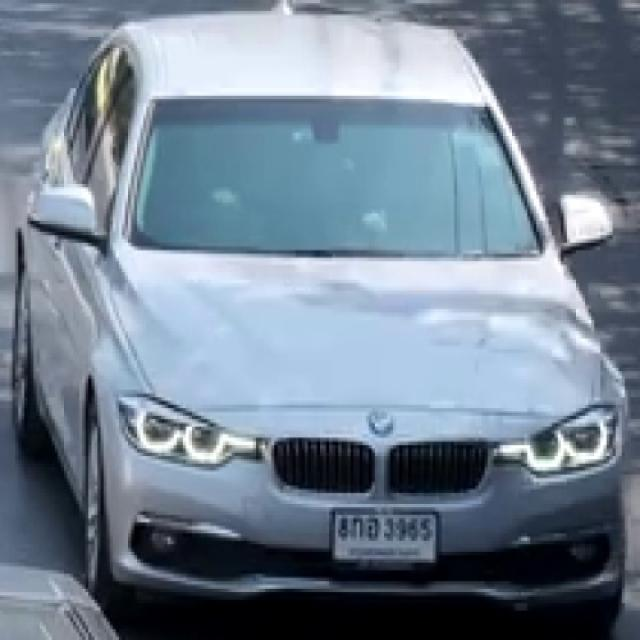plate: (335, 509, 438, 562)
